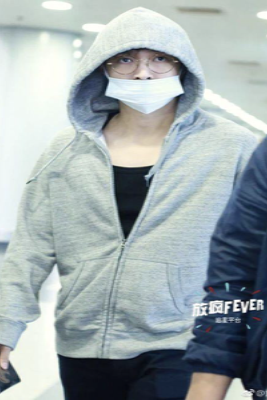mask_weared_incorrect: (100, 50, 184, 114)
